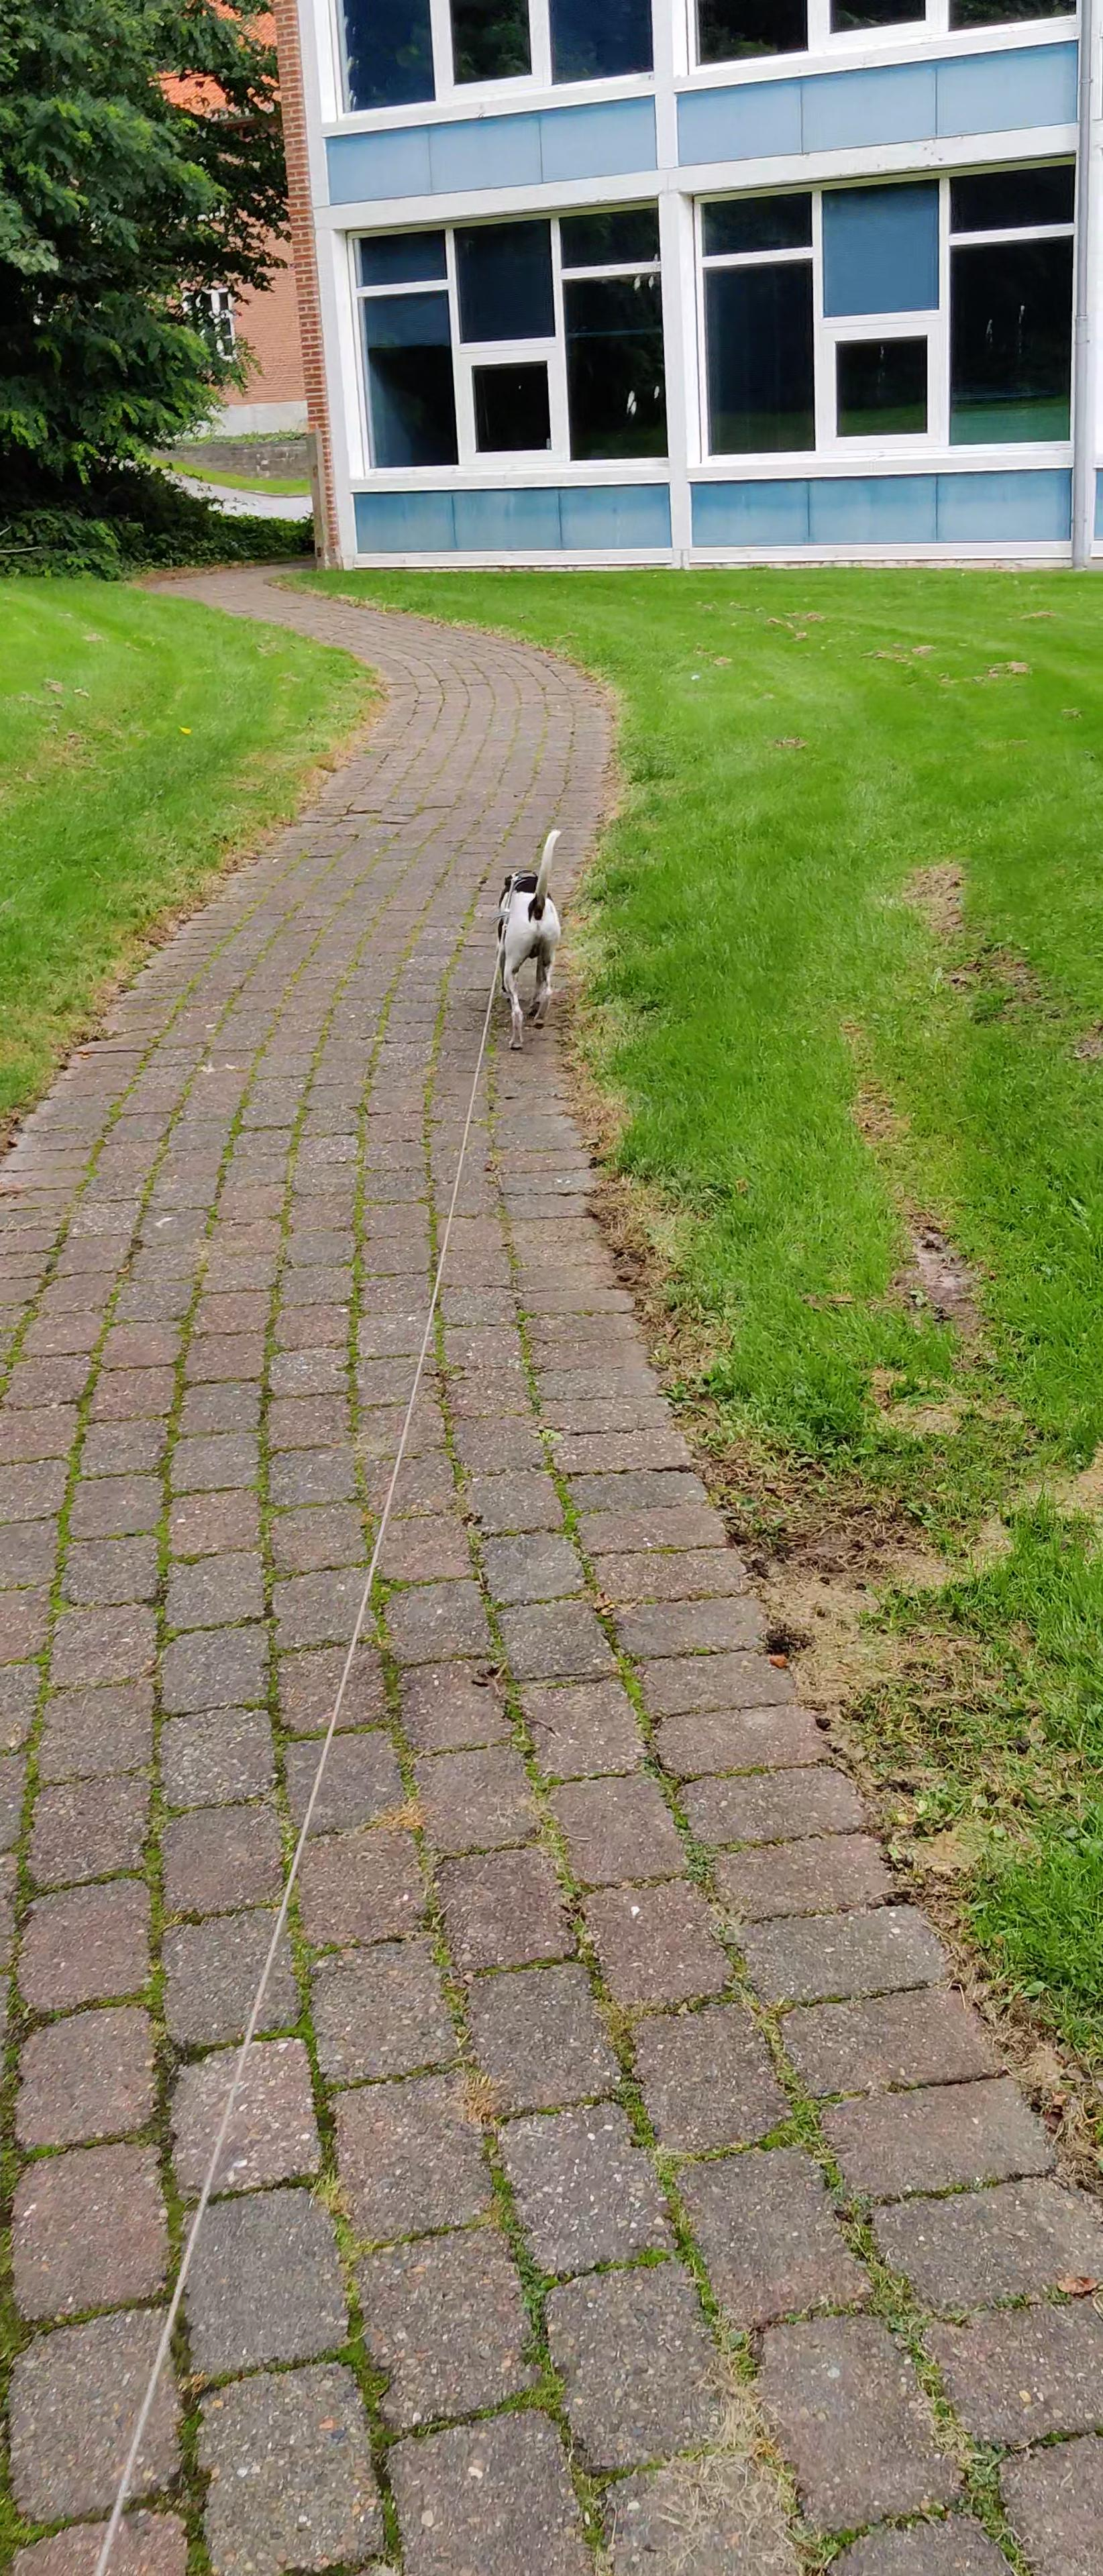Dog: (475, 826, 610, 1051)
